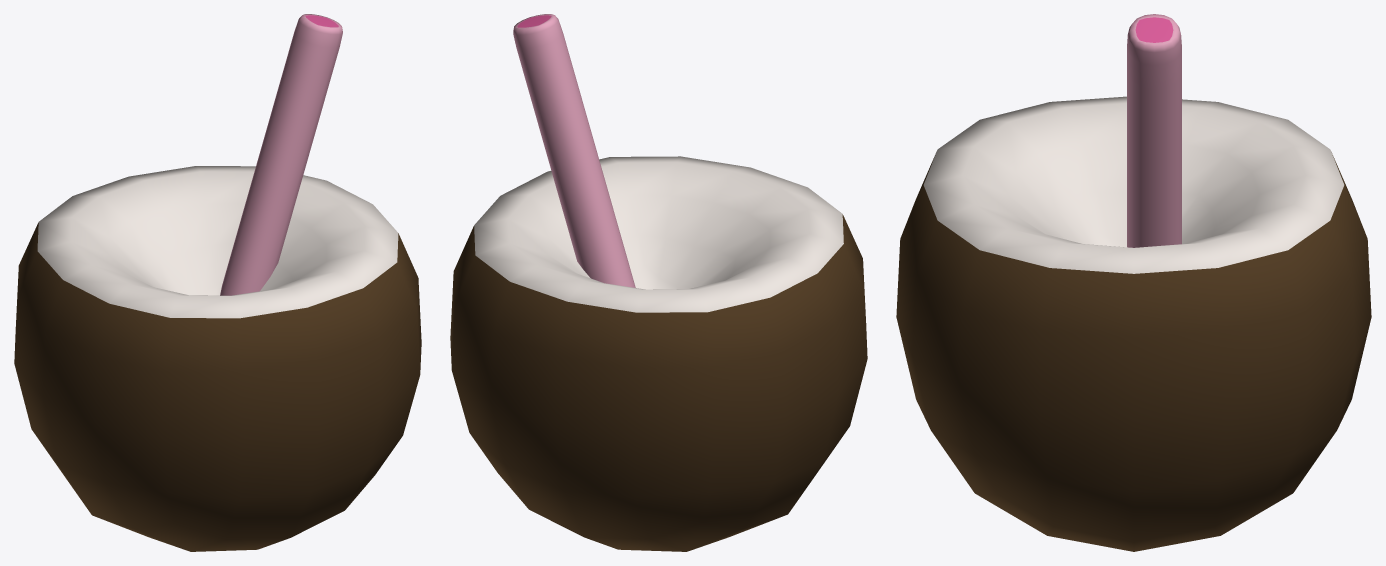
Rendered from coconut drink.fbx.
3 renders of one model, left to right at view 1: azimuth 30°, elevation 25°; view 2: azimuth 150°, elevation 25°; view 3: azimuth 270°, elevation 25°, orthographic. The views are drawn at different scales.
Parts seen in each view (by area): view 1: pCube2, pCube3; view 2: pCube2, pCube3; view 3: pCube2, pCube3.
Boxes of the visible parts, x1,y1,x2,y2 form: pCube2: (14,166,421,551); pCube3: (220,14,342,295); pCube2: (450,156,867,551); pCube3: (513,14,635,287); pCube2: (896,96,1371,551); pCube3: (1127,14,1181,247).
Size of the model in its own units: 8.09 by 10.67 by 8.09.
